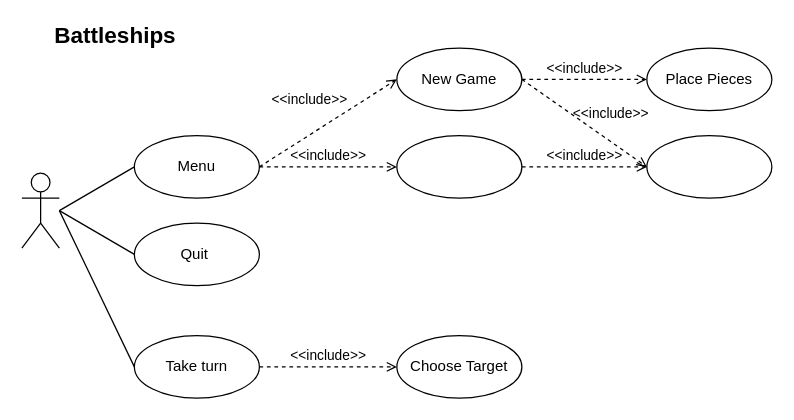
This 794x420 diagram has some shape labels left out. Each missing label, with the box of its shape:
Actor: (21, 172, 59, 248)
Continue: (396, 134, 522, 198)
Display grid: (646, 134, 772, 198)
